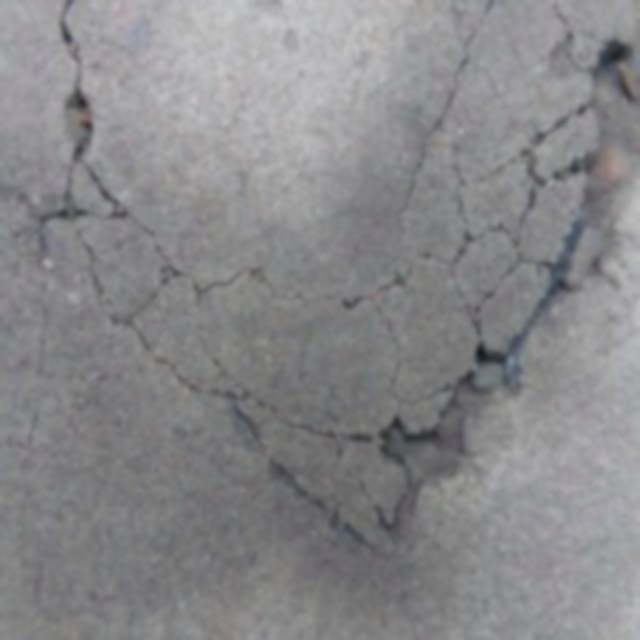SurfaceCrack: (38, 0, 630, 564)
